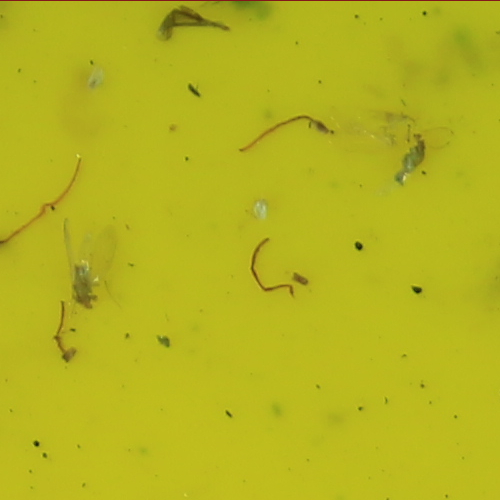psylla: (67, 257, 95, 316)
